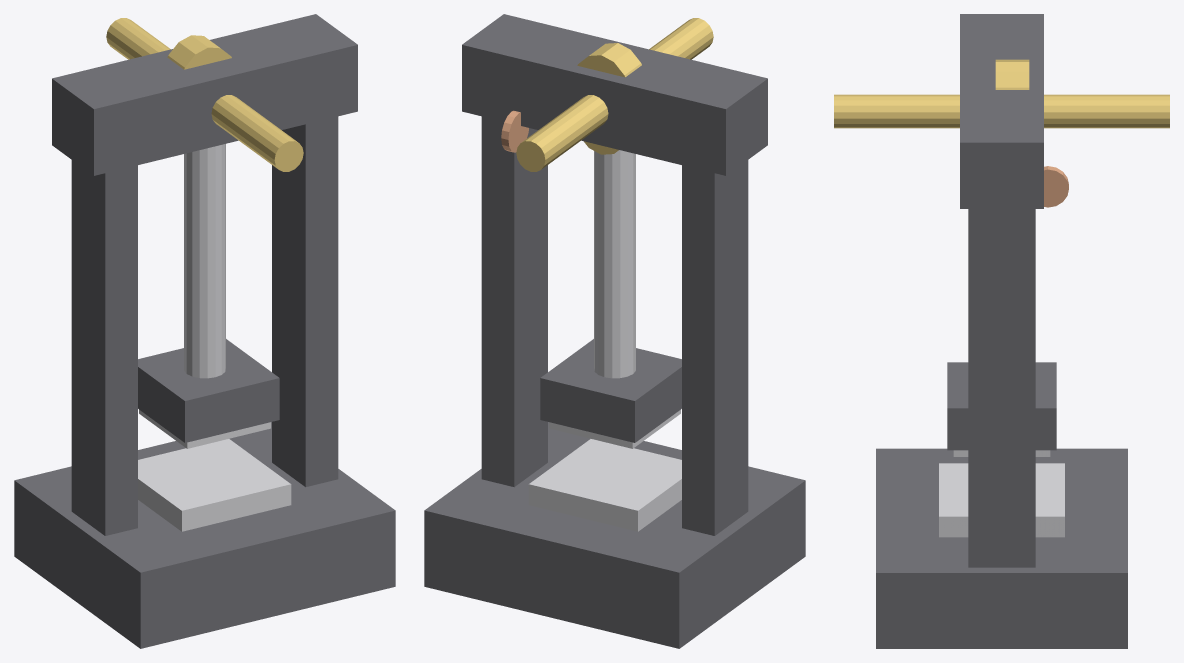
File: mechanical_press.glb
3 views of the same model, side by side, from view 1: azimuth 30°, elevation 25°; view 2: azimuth 150°, elevation 25°; view 3: azimuth 270°, elevation 25° (orthographic).
Parts seen in each view (by area): view 1: Cube, Cube.004, Cube.002, Cube.003, Cube.001, Cube.005, Cylinder.002, Cylinder, Cylinder.001, Cube.006; view 2: Cube, Cube.004, Cube.002, Cube.003, Cube.001, Cube.005, Cylinder.002, Cylinder, Cylinder.001, Cube.006, Cylinder.003; view 3: Cube, Cube.003, Cube.004, Cylinder, Cube.001, Cube.005, Cylinder.001, Cylinder.003.
Part boxes in pixels (box(x1,y1,x2,y2)): Cube: box(14, 422, 395, 648); Cube.004: box(52, 14, 357, 175); Cube.002: box(71, 160, 137, 535); Cube.003: box(272, 116, 338, 487); Cube.001: box(138, 439, 291, 531); Cube.005: box(138, 339, 279, 442); Cylinder.002: box(184, 144, 225, 378); Cylinder: box(106, 18, 303, 171); Cylinder.001: box(167, 35, 231, 69); Cube.006: box(139, 409, 270, 448); Cube: box(424, 422, 805, 648); Cube.004: box(462, 14, 767, 175); Cube.002: box(682, 160, 748, 535); Cube.003: box(481, 116, 547, 487); Cube.001: box(528, 439, 681, 531); Cube.005: box(540, 339, 681, 442); Cylinder.002: box(594, 150, 635, 378); Cylinder: box(516, 18, 713, 171); Cylinder.001: box(577, 43, 641, 154); Cube.006: box(549, 409, 680, 448); Cylinder.003: box(501, 110, 528, 152); Cube: box(876, 448, 1127, 648); Cube.003: box(968, 209, 1035, 567); Cube.004: box(960, 14, 1043, 208); Cylinder: box(834, 94, 1169, 128); Cube.001: box(939, 463, 1064, 537); Cube.005: box(947, 362, 1056, 450); Cylinder.001: box(995, 59, 1029, 89); Cylinder.003: box(1044, 166, 1068, 207).
Size of the model in its own units: 1.45 by 2.76 by 1.6.
